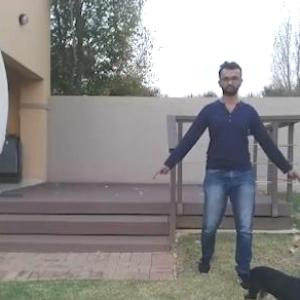land: (166, 70, 286, 277)
